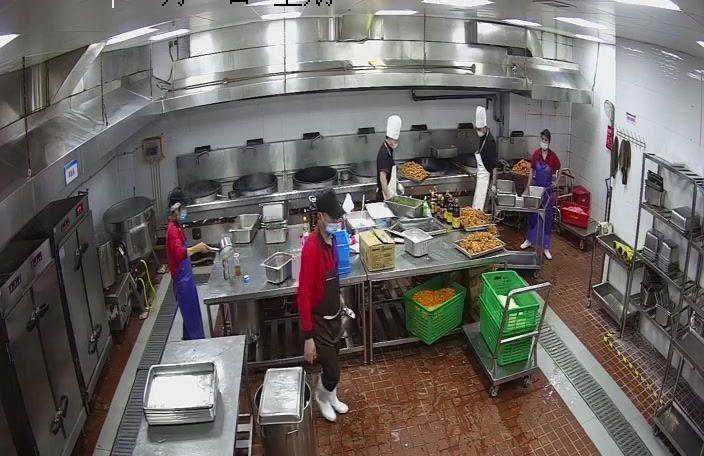mask: (323, 218, 339, 233), (539, 141, 549, 150)
no_apron: (302, 338, 318, 366)
